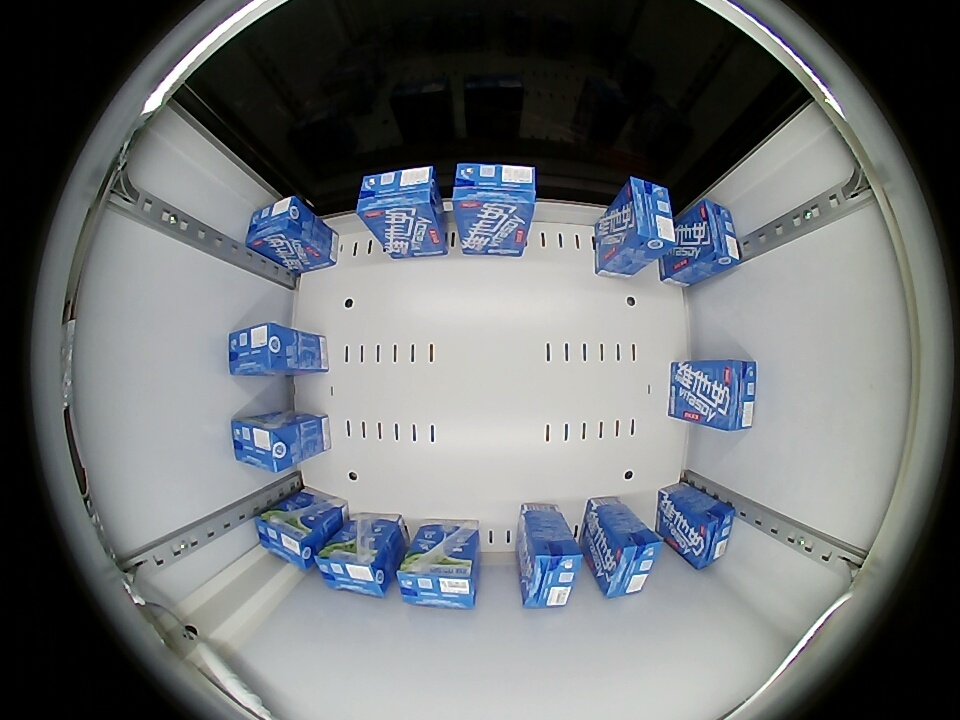weitanai: (356, 166, 440, 224), (452, 163, 537, 220), (616, 177, 676, 256), (397, 552, 478, 610), (599, 526, 662, 598), (520, 536, 583, 607), (316, 540, 391, 598), (685, 199, 742, 273), (230, 414, 300, 473), (255, 508, 321, 570), (246, 195, 313, 256), (227, 322, 299, 378), (680, 500, 736, 569), (706, 359, 756, 432)
